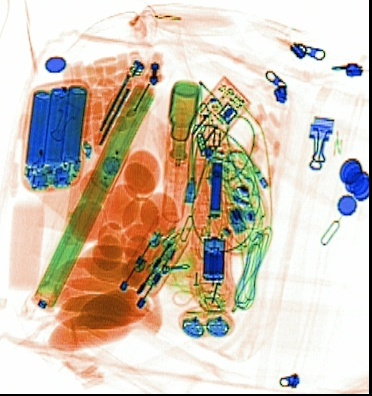powerbank: (24, 78, 91, 193)
